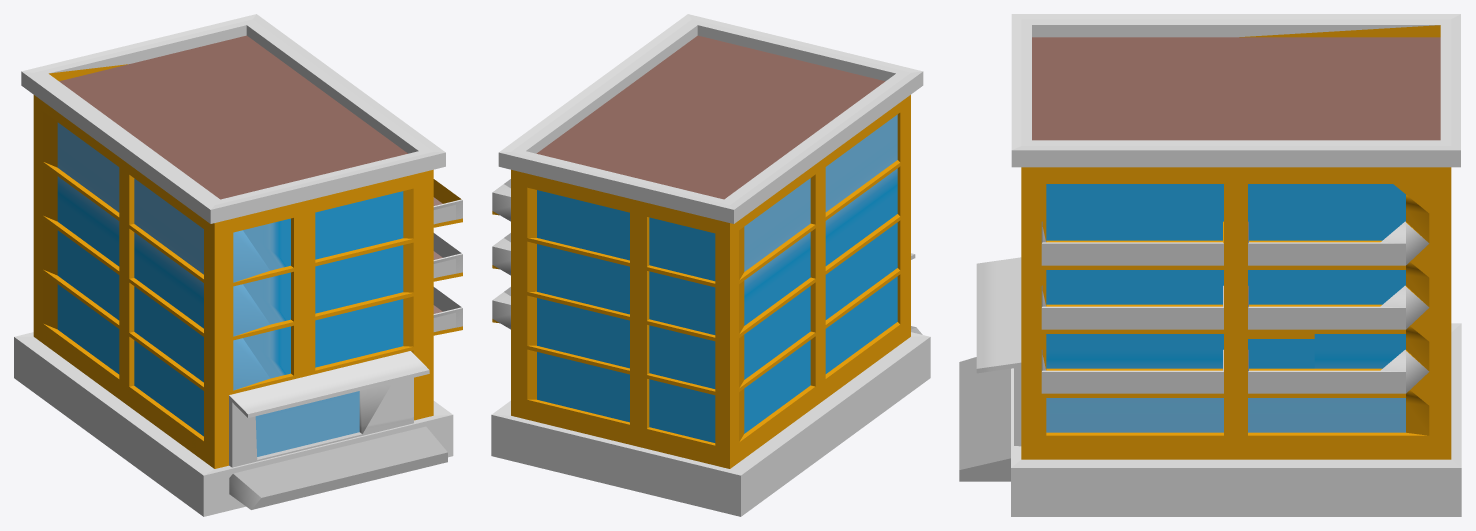
Rendered from OrangeBuilding6x4x6.fbx.
3 views of the same model, side by side, from view 1: azimuth 30°, elevation 25°; view 2: azimuth 150°, elevation 25°; view 3: azimuth 270°, elevation 25° (orthographic). The views are drawn at different scales.
Visible parts, largest first — view 1: House; view 2: House; view 3: House.
Part boxes in pixels (x1,y1,x2,y2): House: (14, 14, 462, 516); House: (491, 14, 930, 516); House: (959, 14, 1461, 516).
Size of the model in its own units: 5.57 by 5.97 by 7.5.
Materials: 1 (1 with a texture image).
